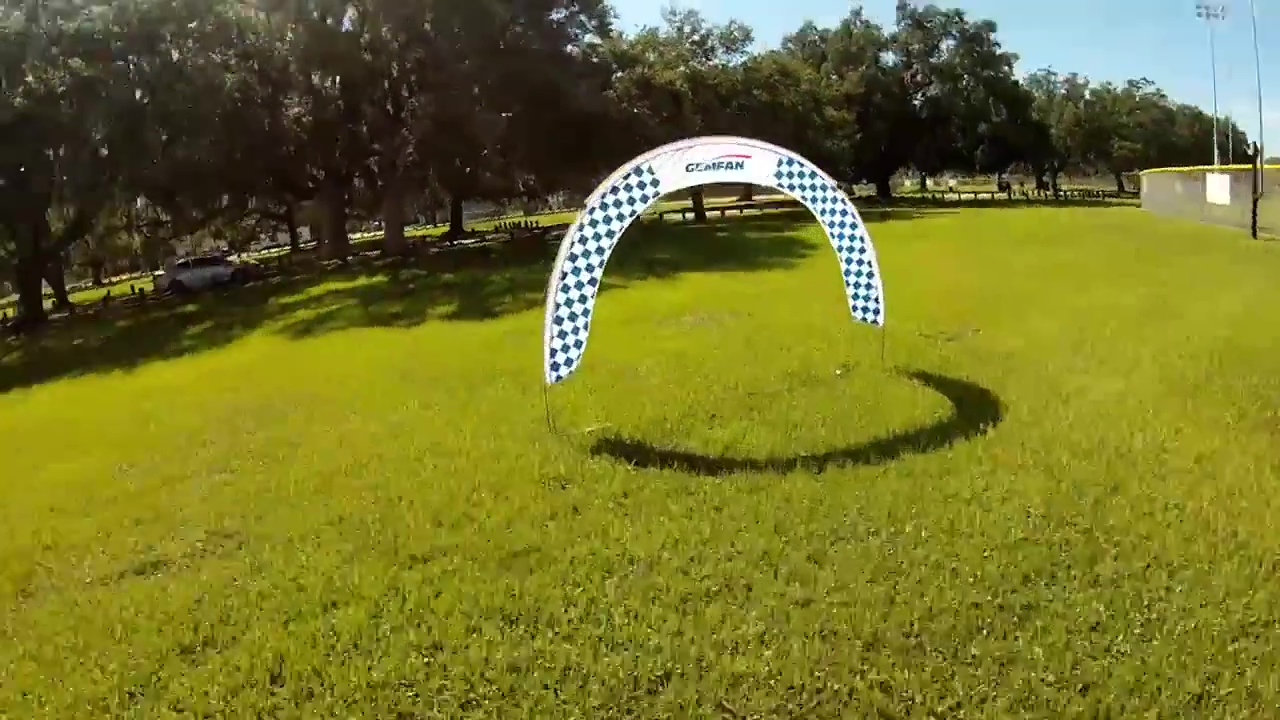gate: (541, 132, 884, 390)
